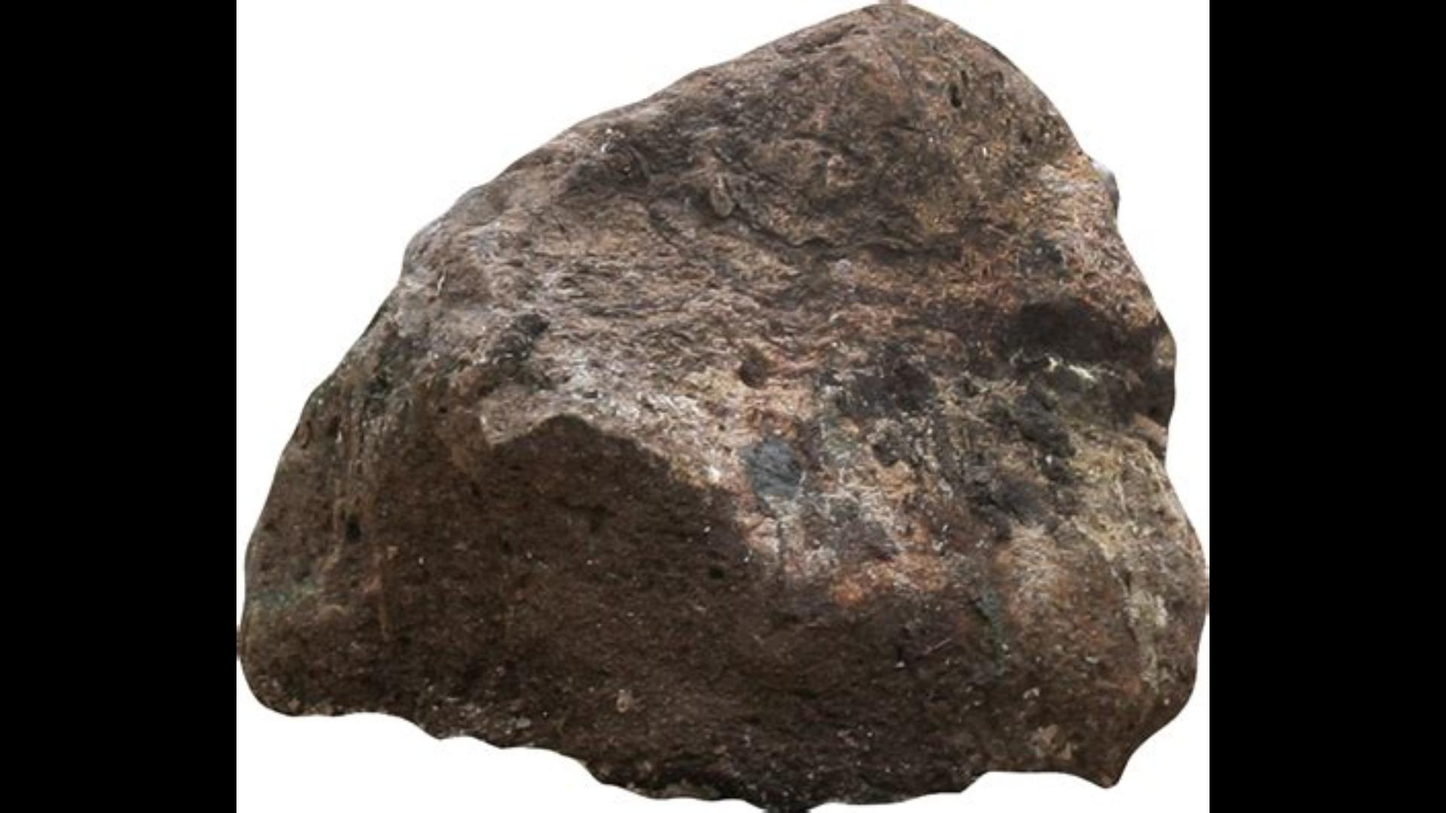rock: (249, 4, 1202, 799)
